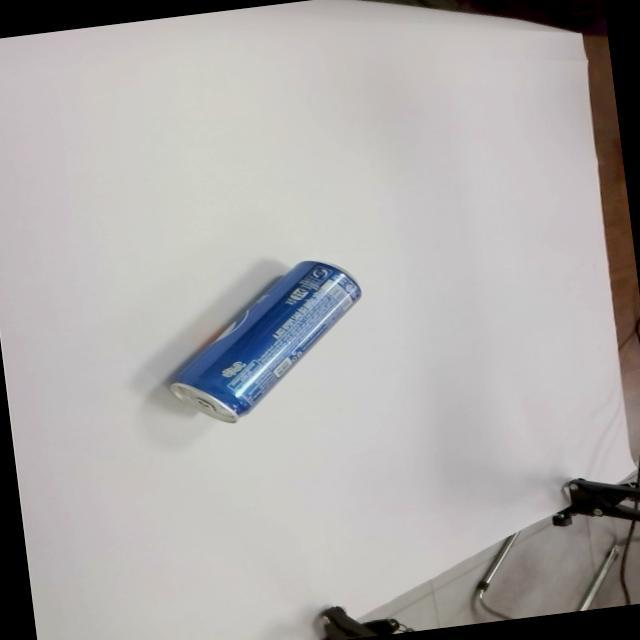debris: (154, 252, 376, 431)
